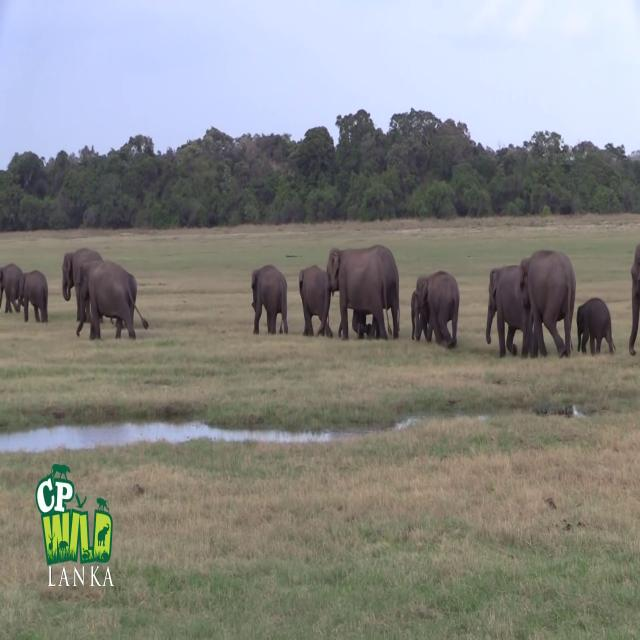Elephant: (320, 244, 400, 340), (519, 248, 576, 358), (75, 260, 148, 340), (486, 264, 534, 358), (411, 270, 460, 348), (62, 246, 104, 323), (251, 264, 288, 334), (298, 264, 332, 337), (576, 297, 616, 355), (20, 269, 48, 323), (628, 243, 640, 356), (0, 262, 24, 314)
